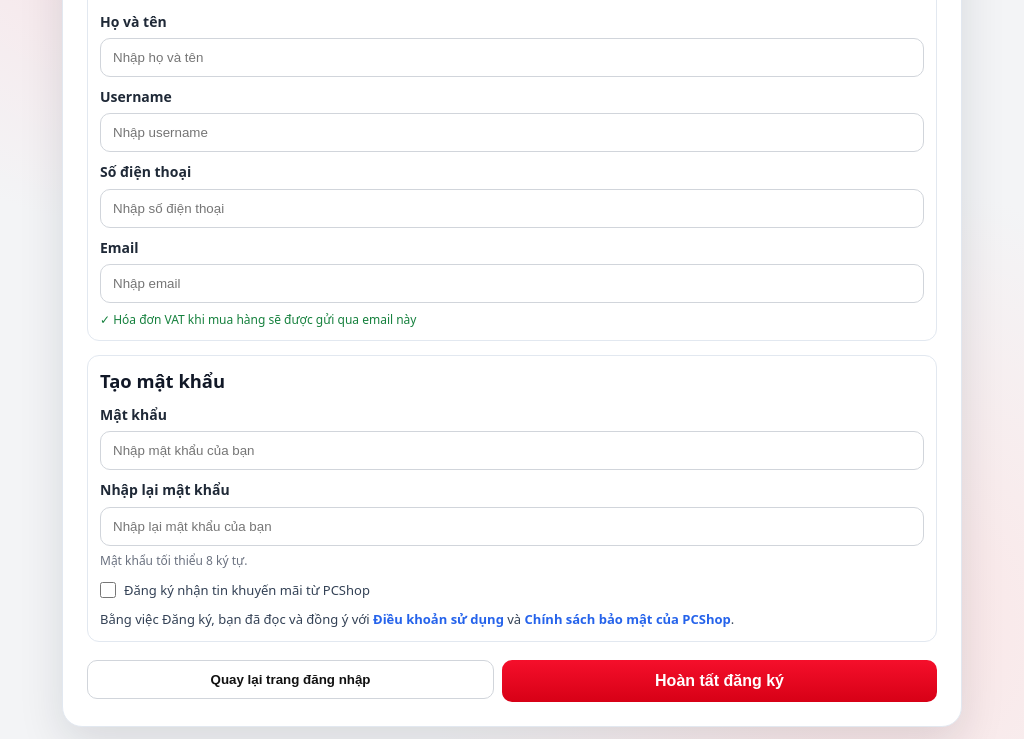
Scenario: Register Tests › Should show error when fields are empty
The width and height of the screenshot is (1024, 739).
(page scrolled)
Click the button "Hoàn tất đăng ký": (720, 681) top-left (502, 660), bottom-right (937, 702)
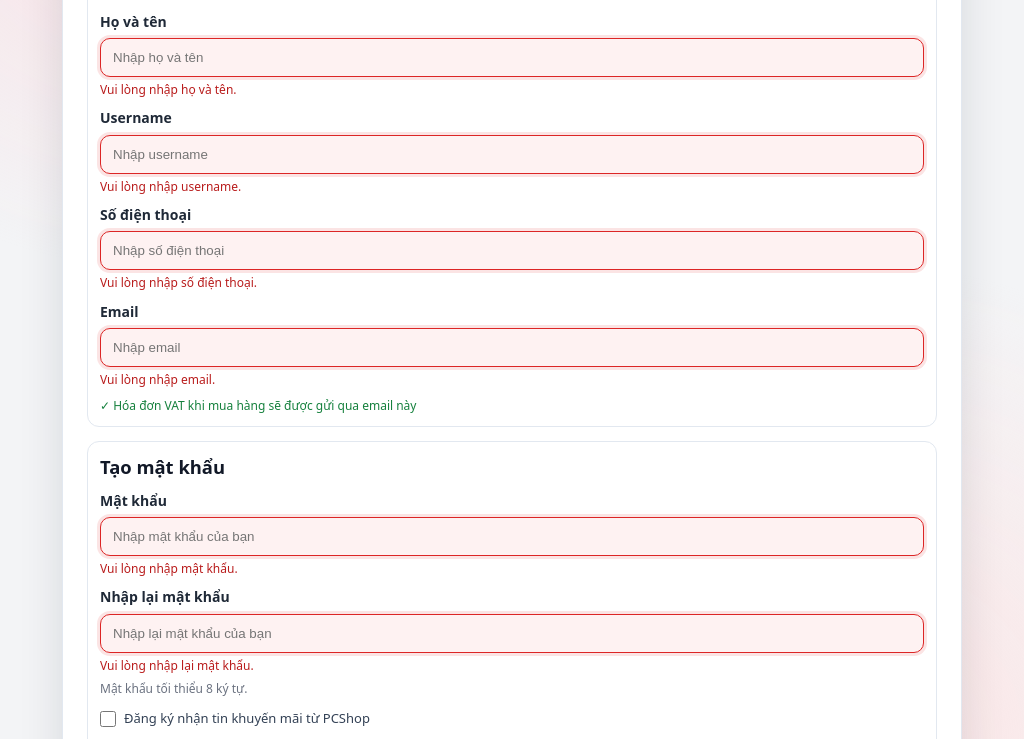
Result: the text "Vui lòng nhập" is shown at top-left (100, 12), bottom-right (924, 99)
